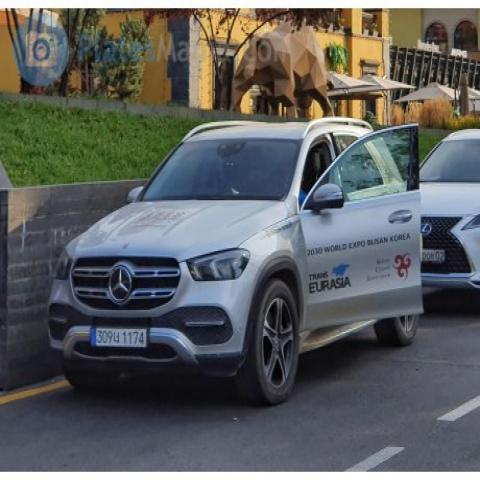LP: (85, 322, 151, 354)
